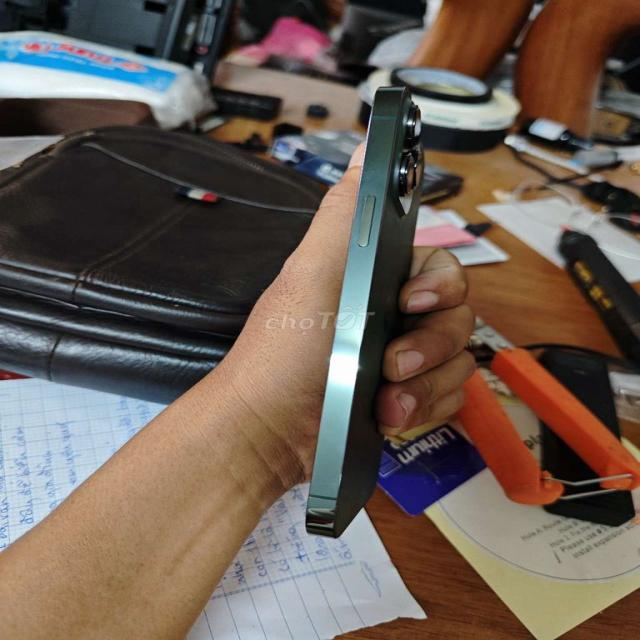gen_12_13: (295, 90, 457, 554)
